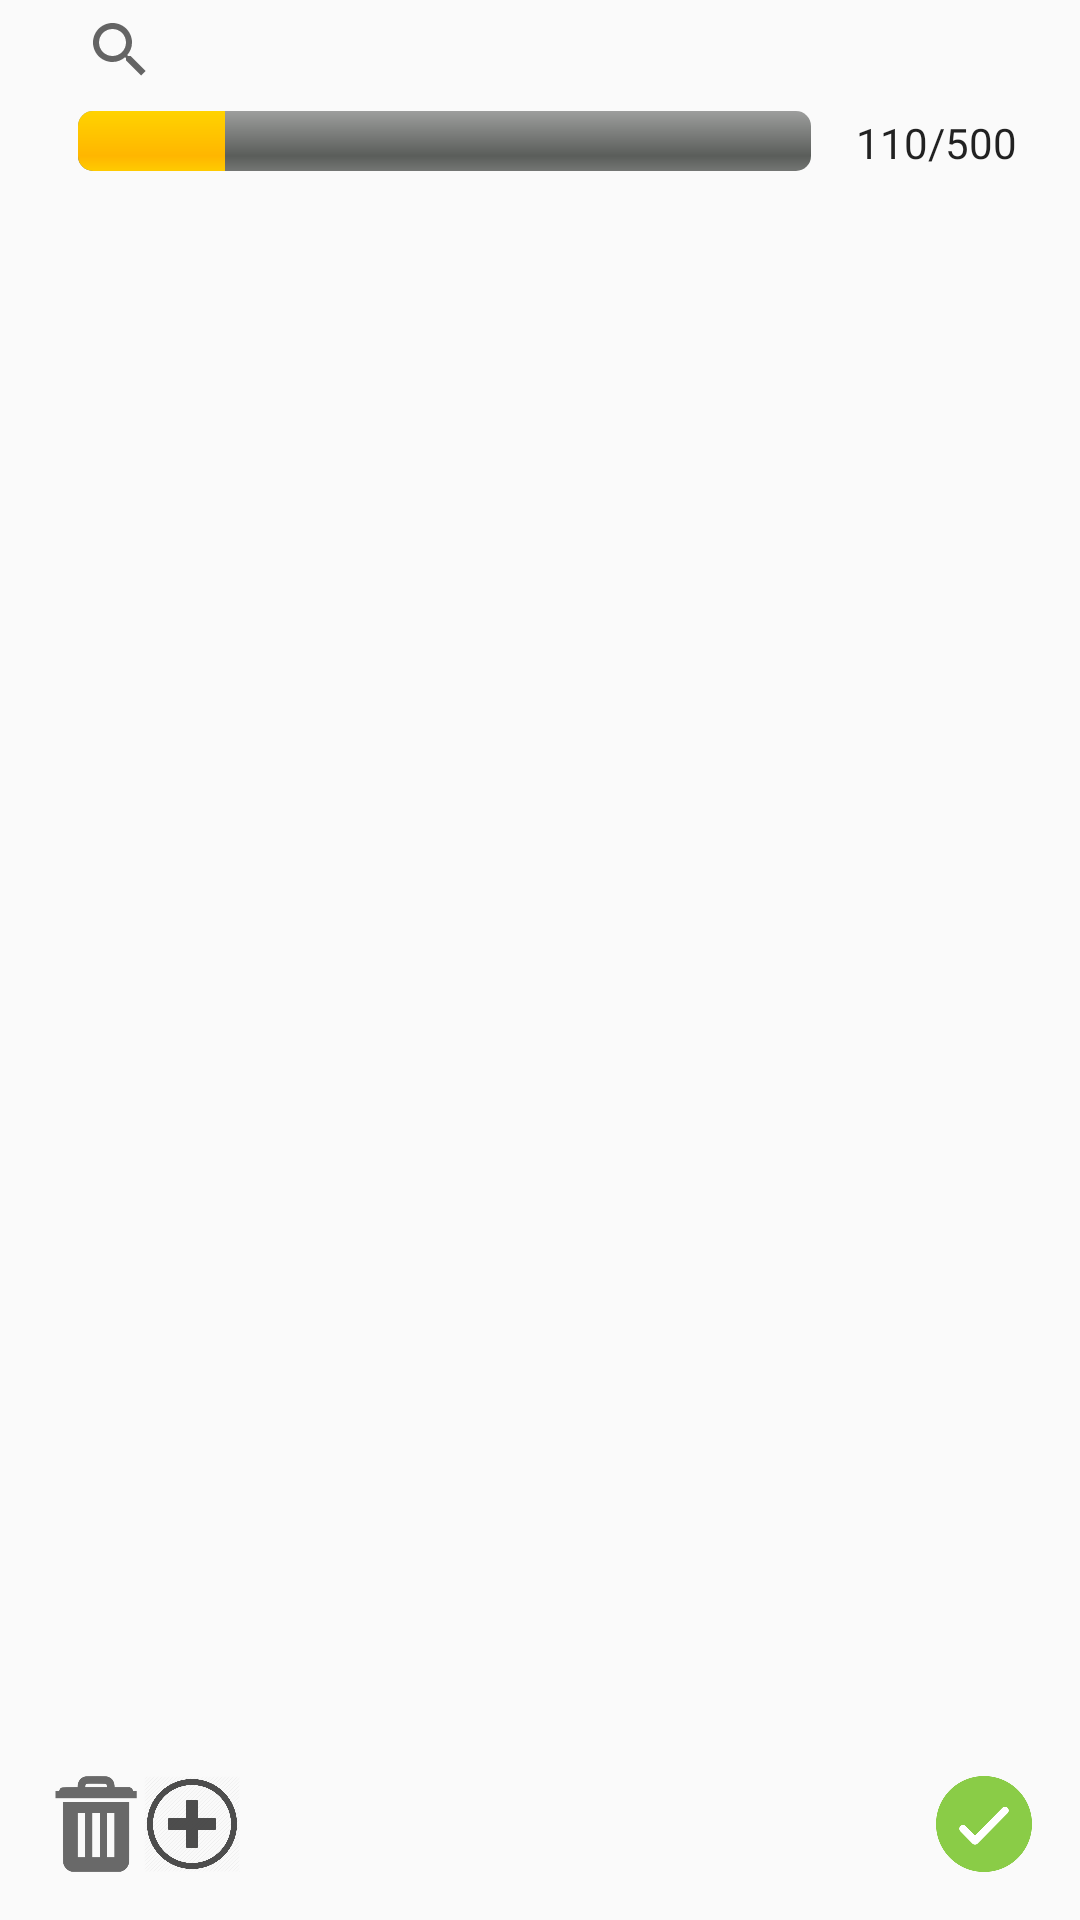

Where icons sit on this 1080×1920 app screen, as (x1=x1, y1=y1, x2=x2, y2=y2):
add: (x1=147, y1=1779, x2=237, y2=1869)
complete: (x1=936, y1=1776, x2=1032, y2=1872)
delete: (x1=55, y1=1776, x2=137, y2=1872)
